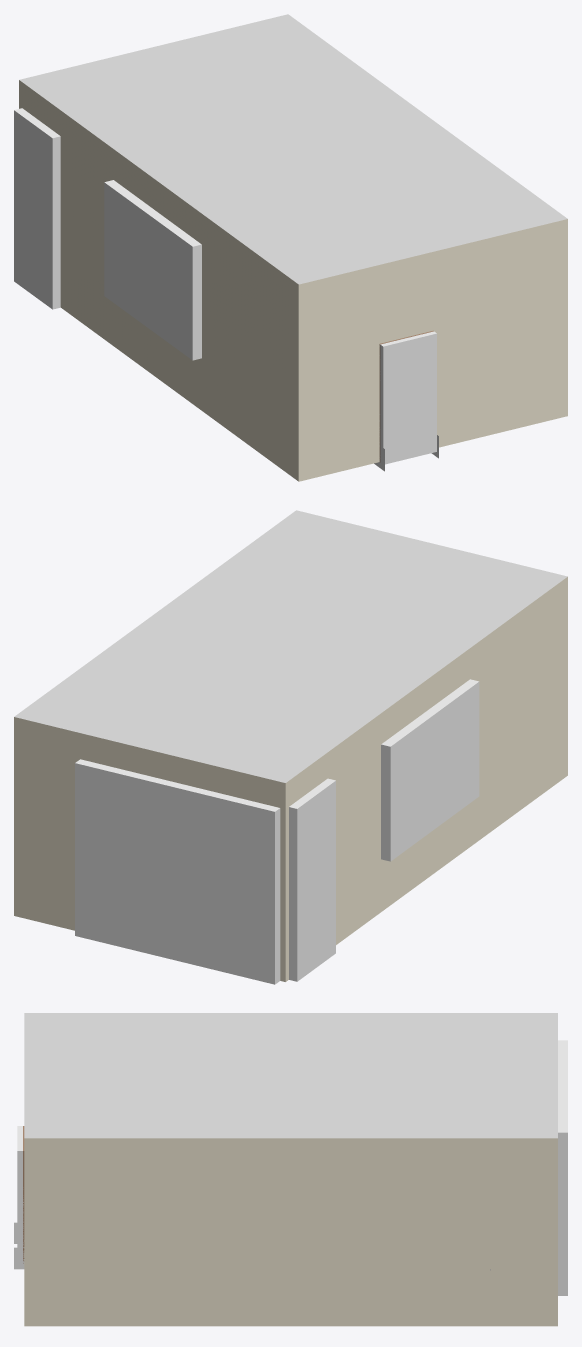
Rendered from new office room.fbx.
3 views of the same model, one above another, from view 1: azimuth 30°, elevation 25°; view 2: azimuth 150°, elevation 25°; view 3: azimuth 270°, elevation 25° (orthographic). The views are drawn at different scales.
Visible parts, largest first — view 1: Room, Holes in room; view 2: Room, Holes in room; view 3: Room, Holes in room.
Boxes of the visible parts, <box> form: Room: <box>19,14,567,481</box>; Holes in room: <box>14,108,438,471</box>; Room: <box>14,510,567,981</box>; Holes in room: <box>75,679,479,984</box>; Room: <box>24,1013,557,1326</box>; Holes in room: <box>14,1040,567,1295</box>.
Bounding box in the file's own units: 522 × 360 × 934.
